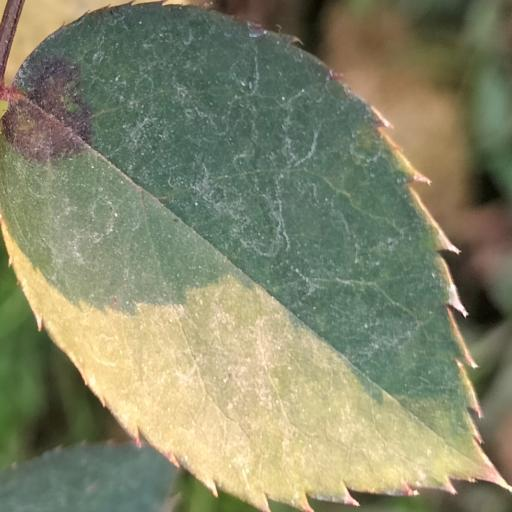black_spot: (0, 3, 506, 511), (181, 101, 182, 102)
